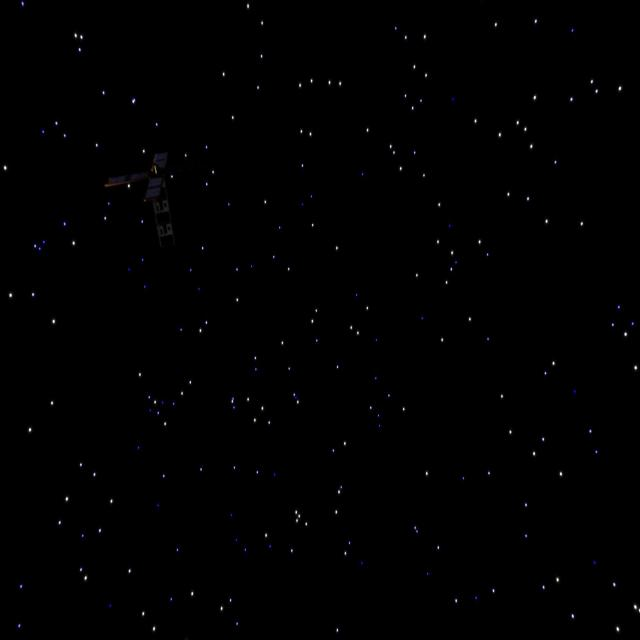medium_debris: (100, 142, 190, 245)
